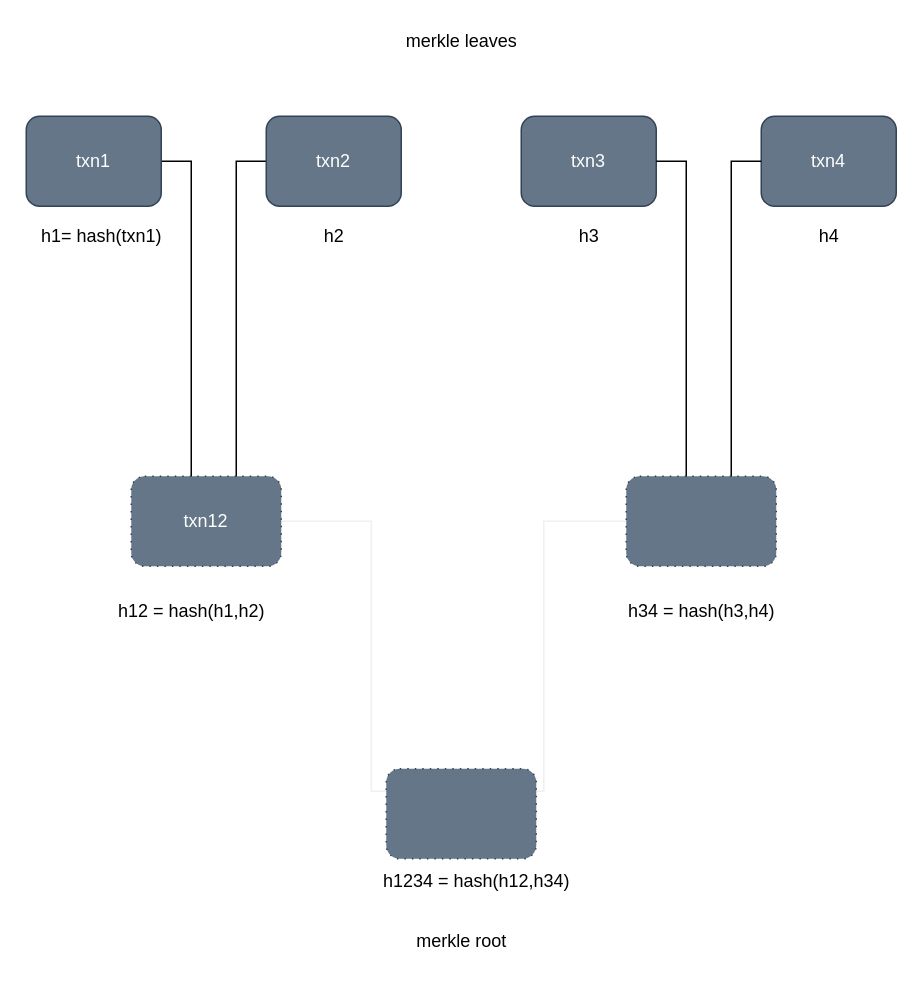
Image size: 923x981. Some labels were removed from this diagram. The centre of each missing label's shape, as x and y in pixels:
txn1234: the point at 460,813
txn34: the point at 700,520
